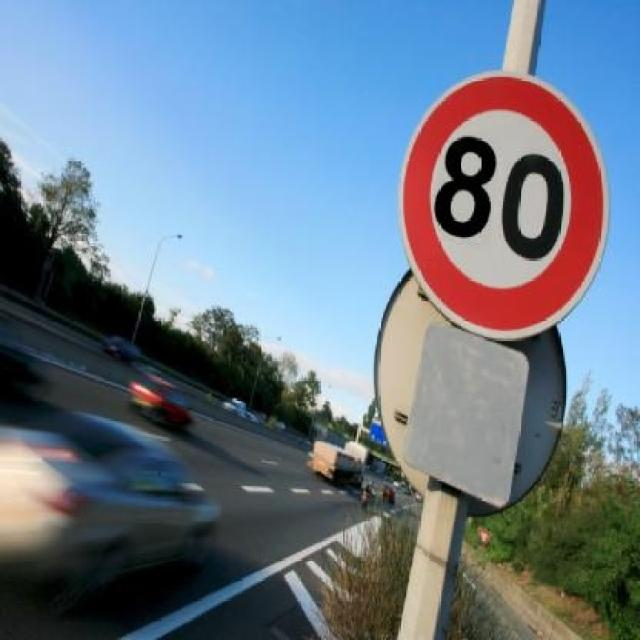forb_speed_over_80: (402, 76, 603, 333)
